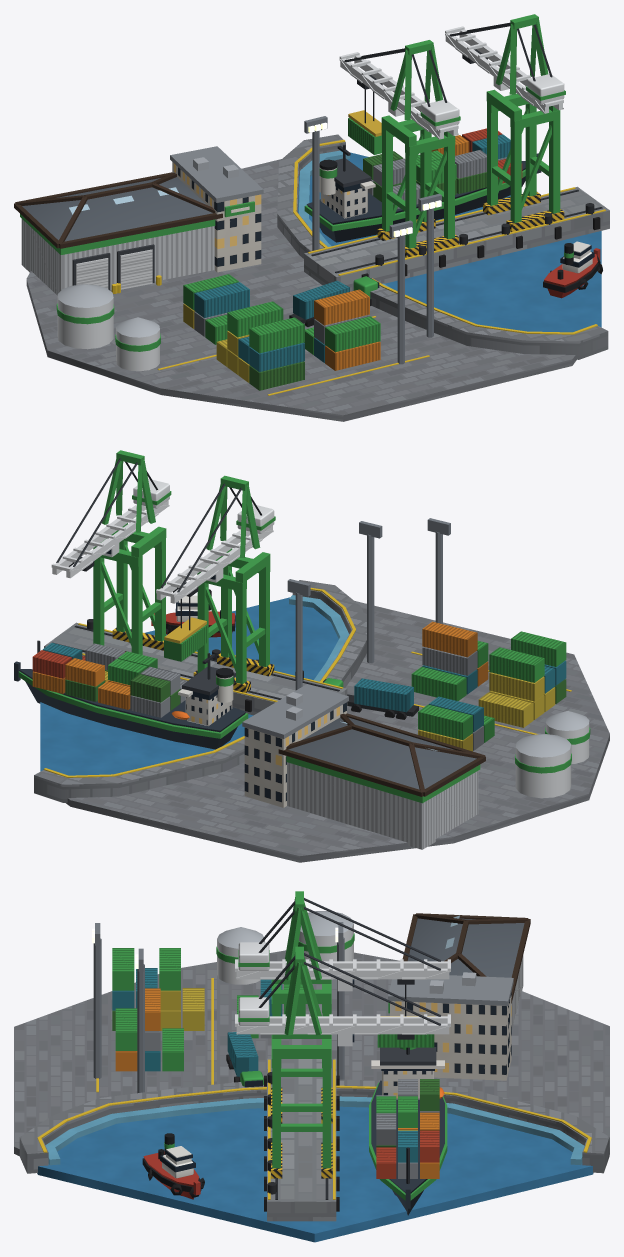
File: port_modern_green.glb
The picture shows the model from 3 angles, top to bottom: view 1: azimuth 30°, elevation 25°; view 2: azimuth 150°, elevation 25°; view 3: azimuth 270°, elevation 25°; orthographic projection. The views are drawn at different scales.
Visible parts, largest first — view 1: port_modern_green; view 2: port_modern_green; view 3: port_modern_green.
Boxes of the visible parts, bbox=[...] form: port_modern_green: bbox=[14, 14, 609, 421]; port_modern_green: bbox=[14, 450, 609, 862]; port_modern_green: bbox=[14, 891, 609, 1242].
Size of the model in its own units: 1.58 by 0.624 by 1.37.
Materials: 2 (1 with a texture image).
